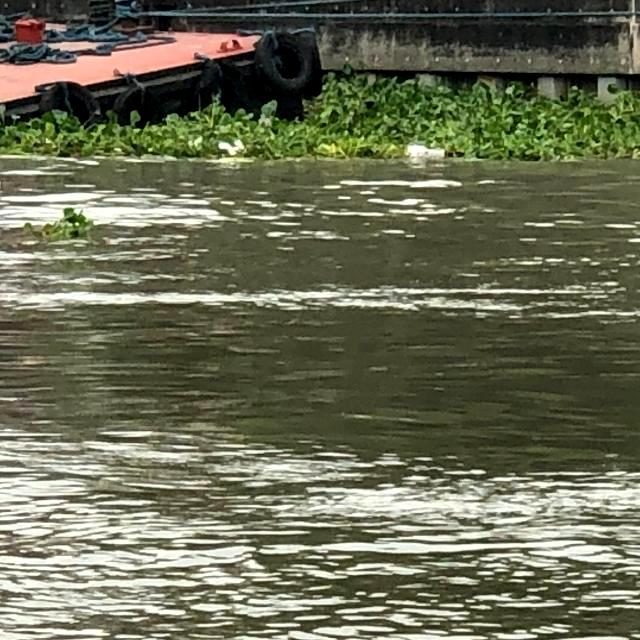water-hyacinth: (25, 69, 640, 165), (22, 209, 98, 243)
